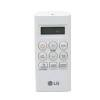remote control: (32, 9, 77, 99)
